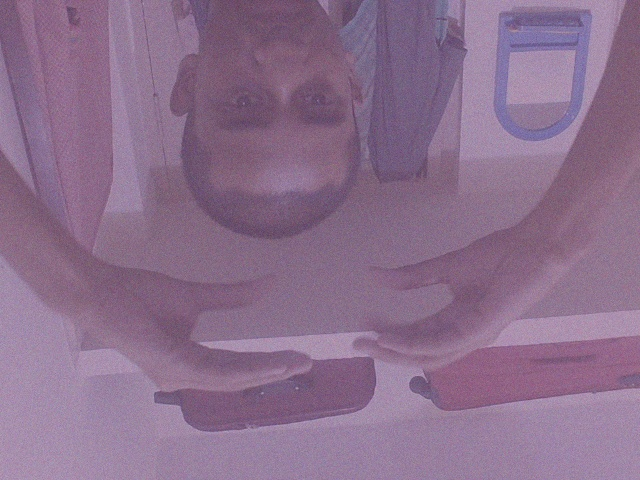hand: (93, 258, 313, 418), (351, 223, 565, 373)
